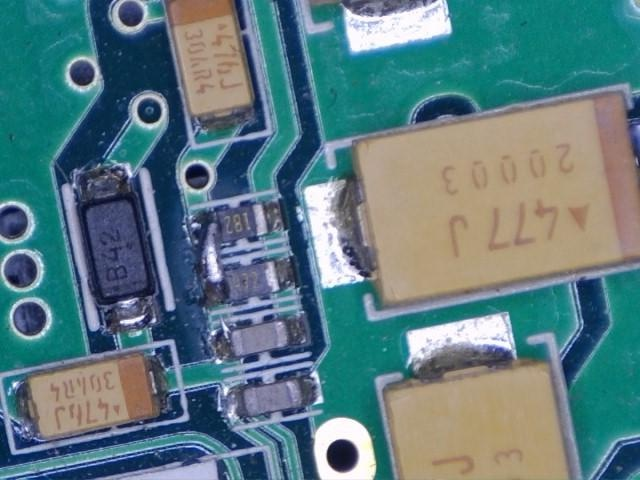pcb_defect: (188, 212, 238, 307)
